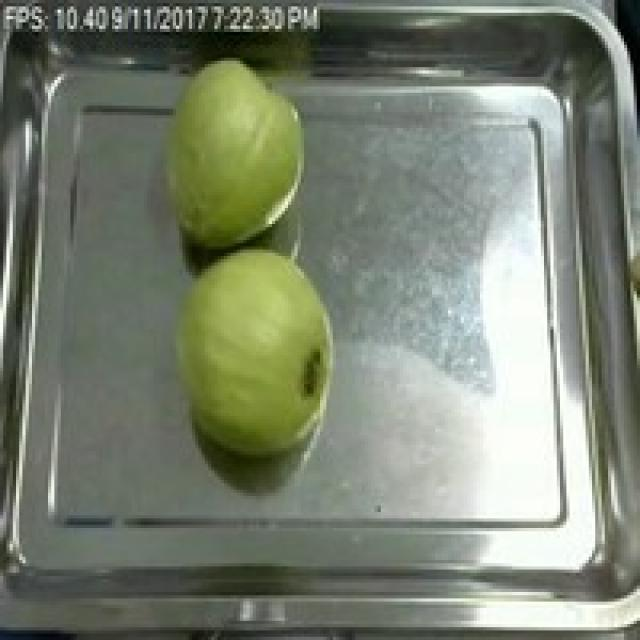Fruit: (163, 240, 346, 467), (141, 48, 320, 262)
